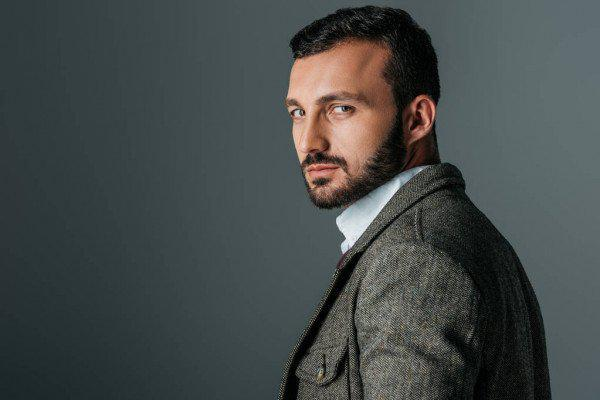Sober: (291, 56, 390, 192)
